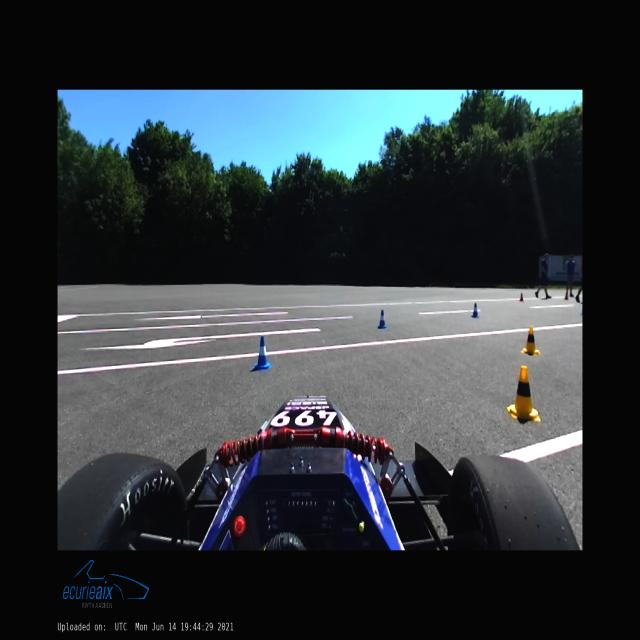blue_cone: (252, 336, 272, 371), (378, 310, 387, 328), (471, 304, 479, 318)
orange_cone: (520, 293, 524, 301)
yellow_cone: (507, 366, 541, 422), (522, 326, 540, 356)
